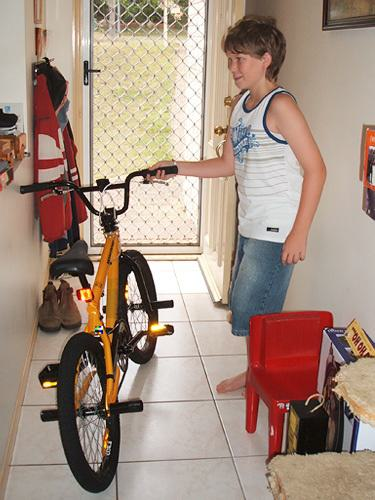car: (18, 166, 181, 494)
chair: (240, 312, 340, 455)
person: (146, 16, 327, 395)
person/foot: (216, 370, 247, 392)
person/hand: (281, 230, 308, 266), (145, 159, 179, 183)
person/head: (221, 15, 287, 89)
